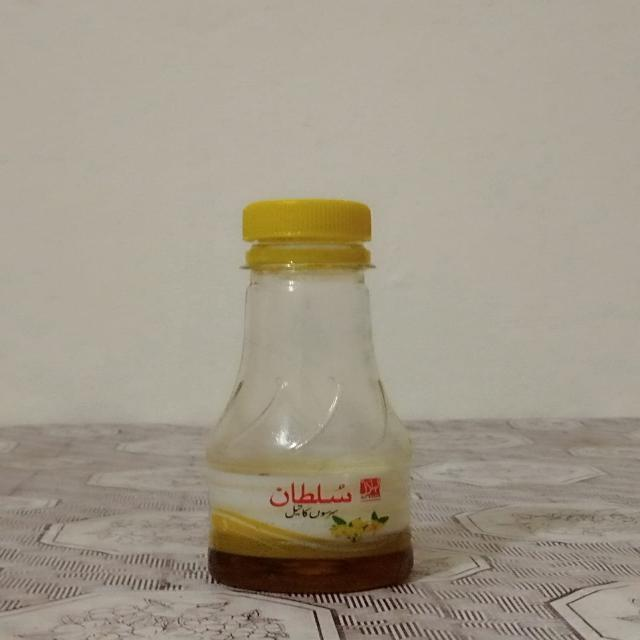bottle: (192, 178, 441, 592)
cap: (232, 194, 375, 277)
label: (209, 448, 411, 582)
